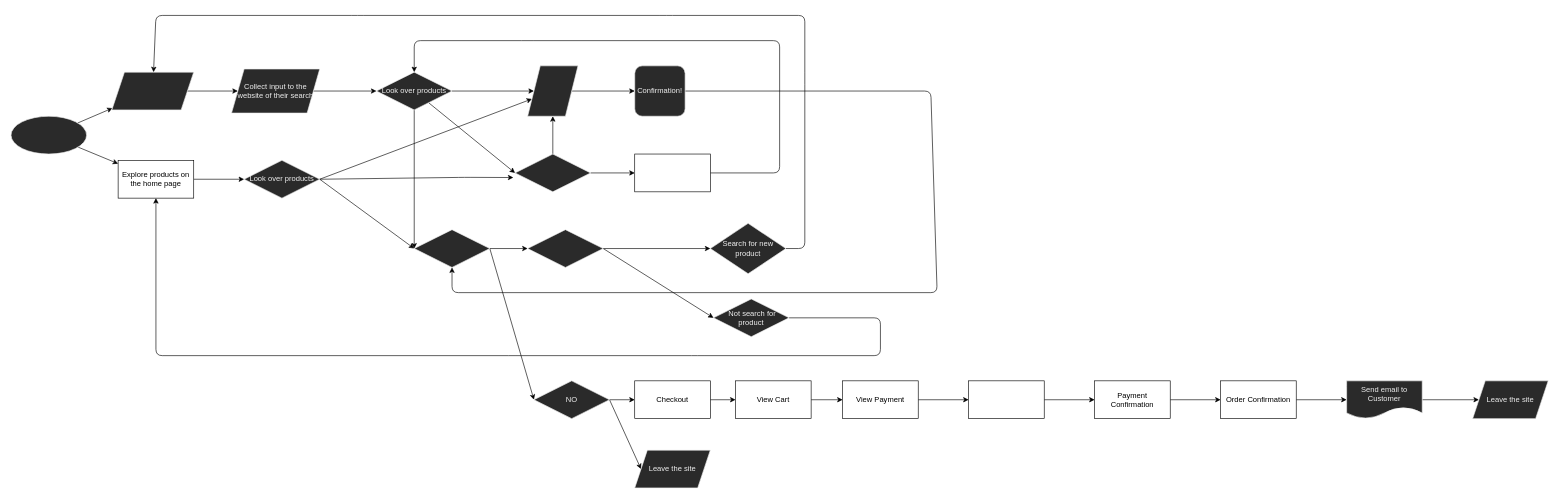
This 1559x499 diagram has some shape labels left out. Here are the shapes that lost their labels. From the top down, the centre of each, then its label:
the point at 152,91: Search for product
the point at 552,90: Add to cart
the point at 48,135: User entering website
the point at 552,172: View specific product
the point at 672,172: Product Webpage Open
the point at 452,248: Continue Shopping?
the point at 565,248: YES
the point at 1006,399: Input Payment Information
